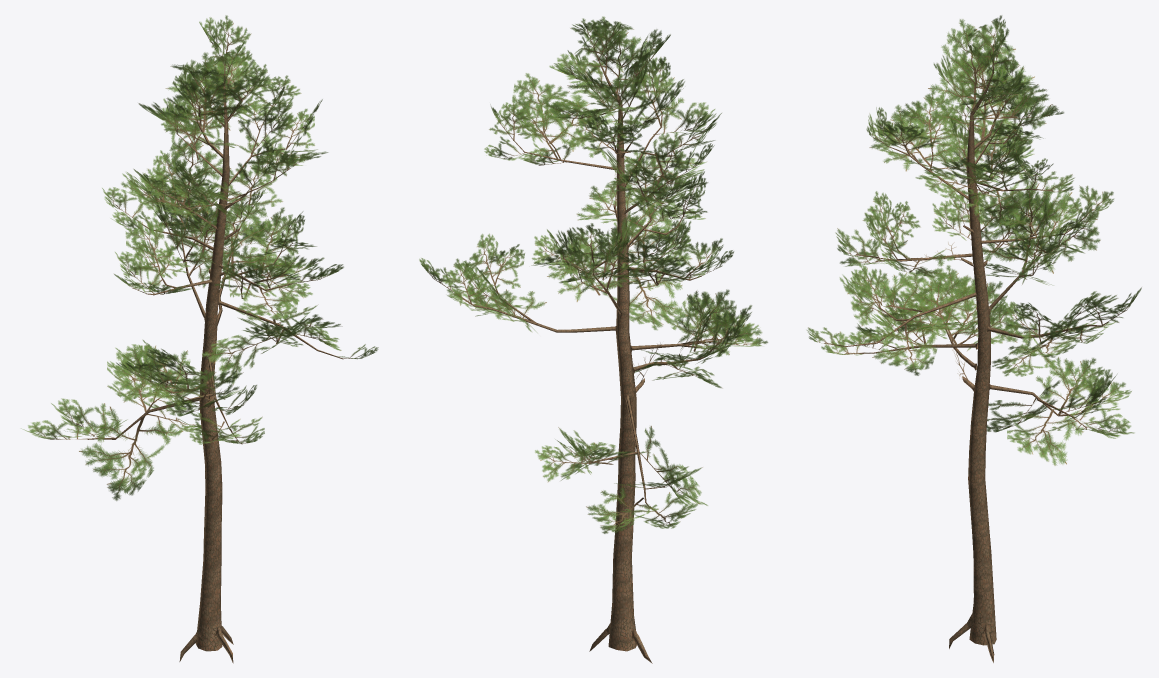
The model's file is tpine1.glb.
The picture shows the model from 3 angles, left to right: view 1: azimuth 30°, elevation 25°; view 2: azimuth 150°, elevation 25°; view 3: azimuth 270°, elevation 25°; orthographic projection. The views are drawn at different scales.
Parts seen in each view (by area): view 1: prefab; view 2: prefab; view 3: prefab.
Part boxes in pixels (x1,y1,x2,y2): prefab: (21, 15, 378, 663); prefab: (419, 16, 767, 663); prefab: (807, 15, 1141, 662).
Size of the model in its own units: 5.49 by 12.67 by 6.15.
Materials: 2 (2 with a texture image).
